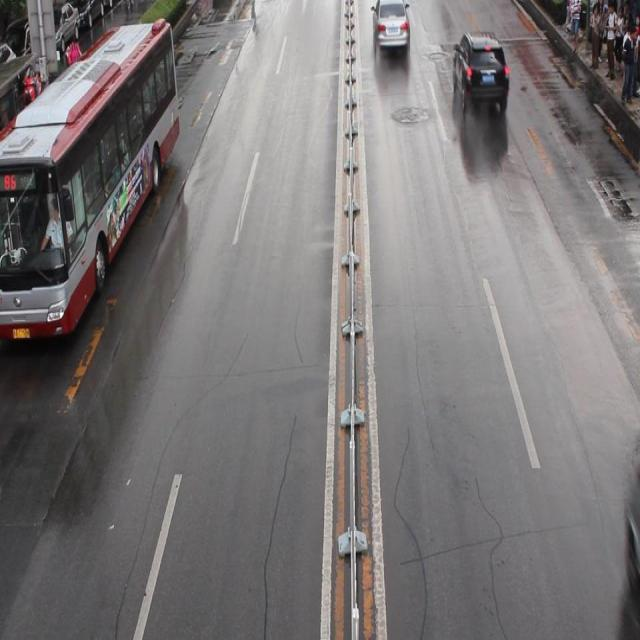car: (452, 32, 508, 108), (370, 1, 409, 51)
van: (1, 16, 179, 340)
